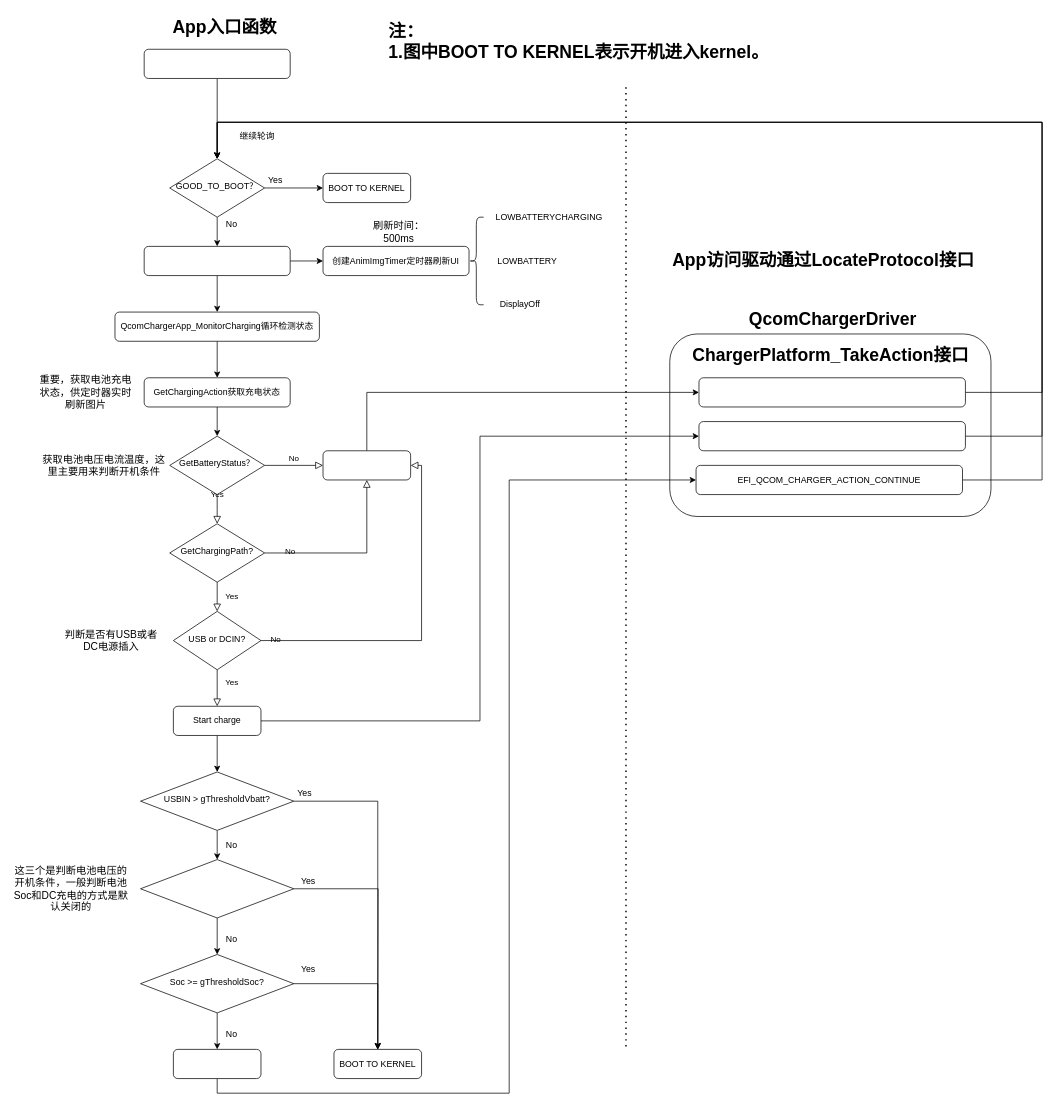
The diagram is 1061 pixels wide and 1112 high, and some of its shapes have lost their labels. Each missing label, with the centre of its shape:
"ACTION_CONTINUE" belongs at (x=217, y=1064).
"DCIN > DCInBootThreshold?" belongs at (x=217, y=888).
"EFI_QCOM_CHARGER_ACTION_START_CHARGING" belongs at (x=831, y=436).
"EFI_QCOM_CHARGER_ACTION_STOP_CHARGING" belongs at (x=831, y=392).
"QcomChargerApp_Entry" belongs at (x=216, y=63).
"QcomChargerApp_Initialize" belongs at (x=216, y=261).
"stop charge" belongs at (x=366, y=465).
